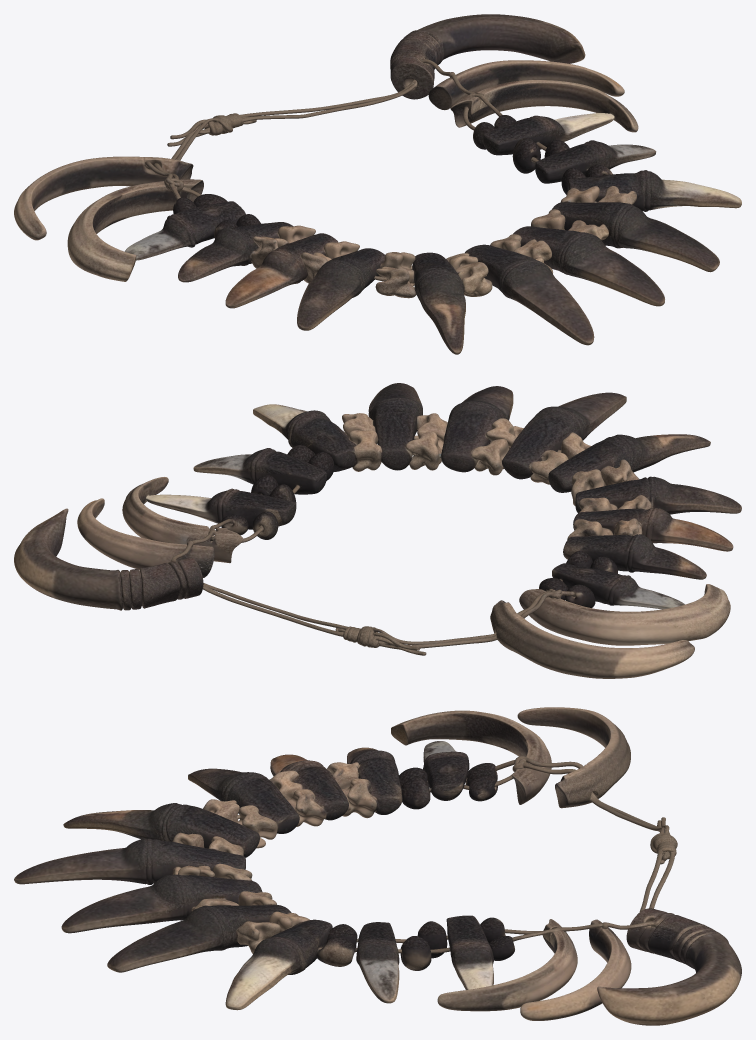
File: mt.province-baoya.glb
3 views of the same model, one above another, from view 1: azimuth 30°, elevation 25°; view 2: azimuth 150°, elevation 25°; view 3: azimuth 270°, elevation 25° (orthographic). The views are drawn at different scales.
Visible parts, largest first — view 1: Mesh_0004; view 2: Mesh_0004; view 3: Mesh_0004.
Part boxes in pixels (x1=…): Mesh_0004: x1=14, y1=14, x2=741, y2=354; Mesh_0004: x1=14, y1=383, x2=741, y2=678; Mesh_0004: x1=14, y1=707, x2=741, y2=1025.
Size of the model in its own units: 0.143 by 0.01 by 0.143.
Materials: 1 (1 with a texture image).
